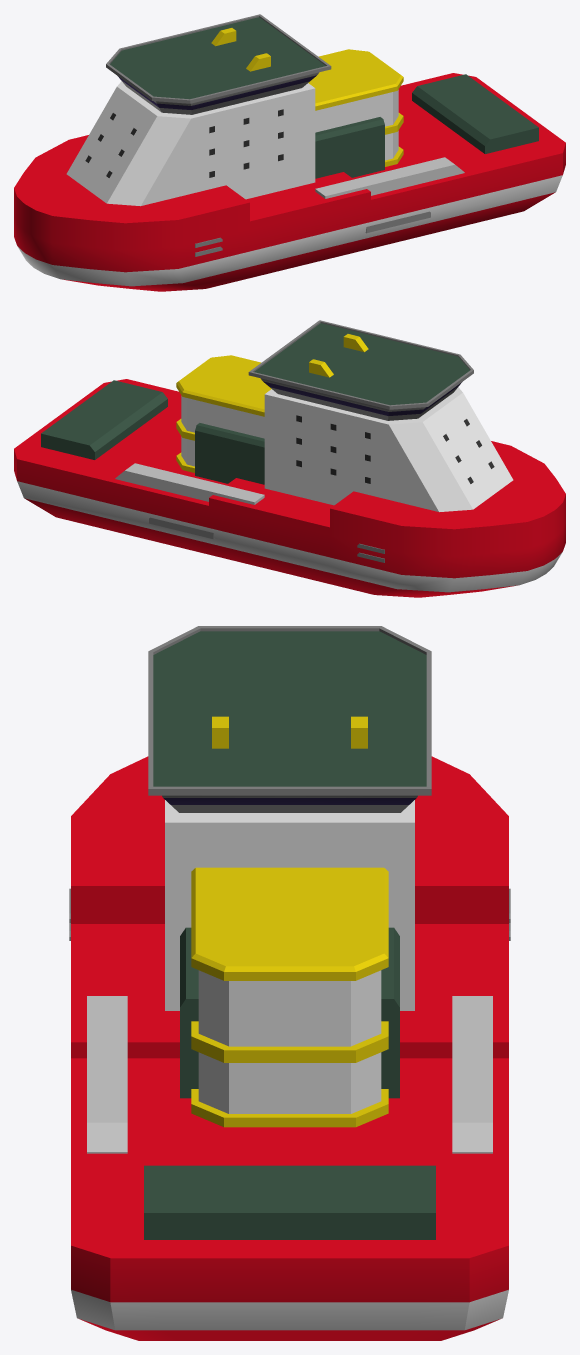
Rendered from Ship.fbx.
3 renders of one model, top to bottom at view 1: azimuth 30°, elevation 25°; view 2: azimuth 150°, elevation 25°; view 3: azimuth 270°, elevation 25°, orthographic. The views are drawn at different scales.
Parts seen in each view (by area): view 1: Cube.206; view 2: Cube.206; view 3: Cube.206.
Boxes of the visible parts, x1,y1,x2,y2 form: Cube.206: (14,14,565,291); Cube.206: (14,320,565,597); Cube.206: (69,626,510,1340).
Bounding box in the file's own units: 1500 × 551 × 578.
